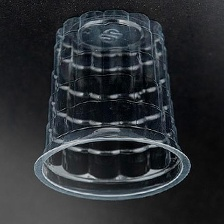glass: (30, 2, 206, 204)
